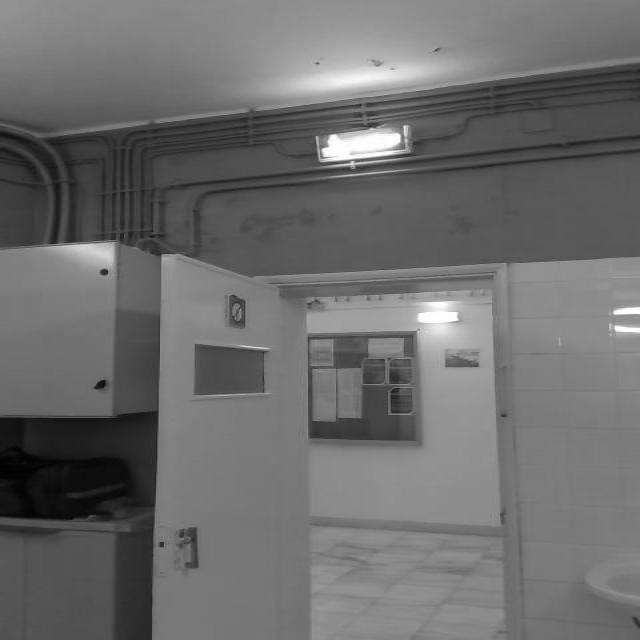door: (144, 245, 534, 640)
